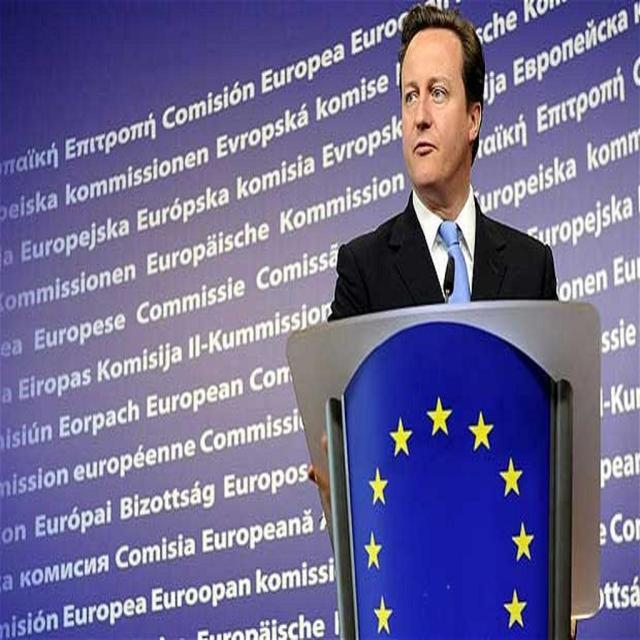Face: (397, 21, 487, 205)
